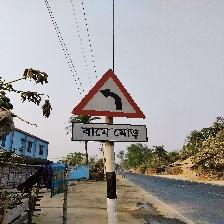Left-Turn: (70, 69, 148, 141)
